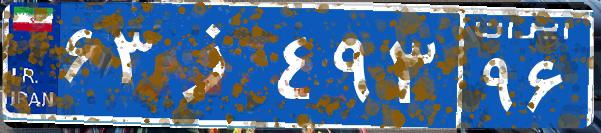3: (385, 28, 445, 110), (110, 28, 158, 105)
4: (273, 28, 330, 110)
6: (57, 26, 110, 107), (525, 38, 570, 115)
9: (330, 28, 385, 110), (475, 38, 525, 113)
ز: (158, 15, 273, 115)
